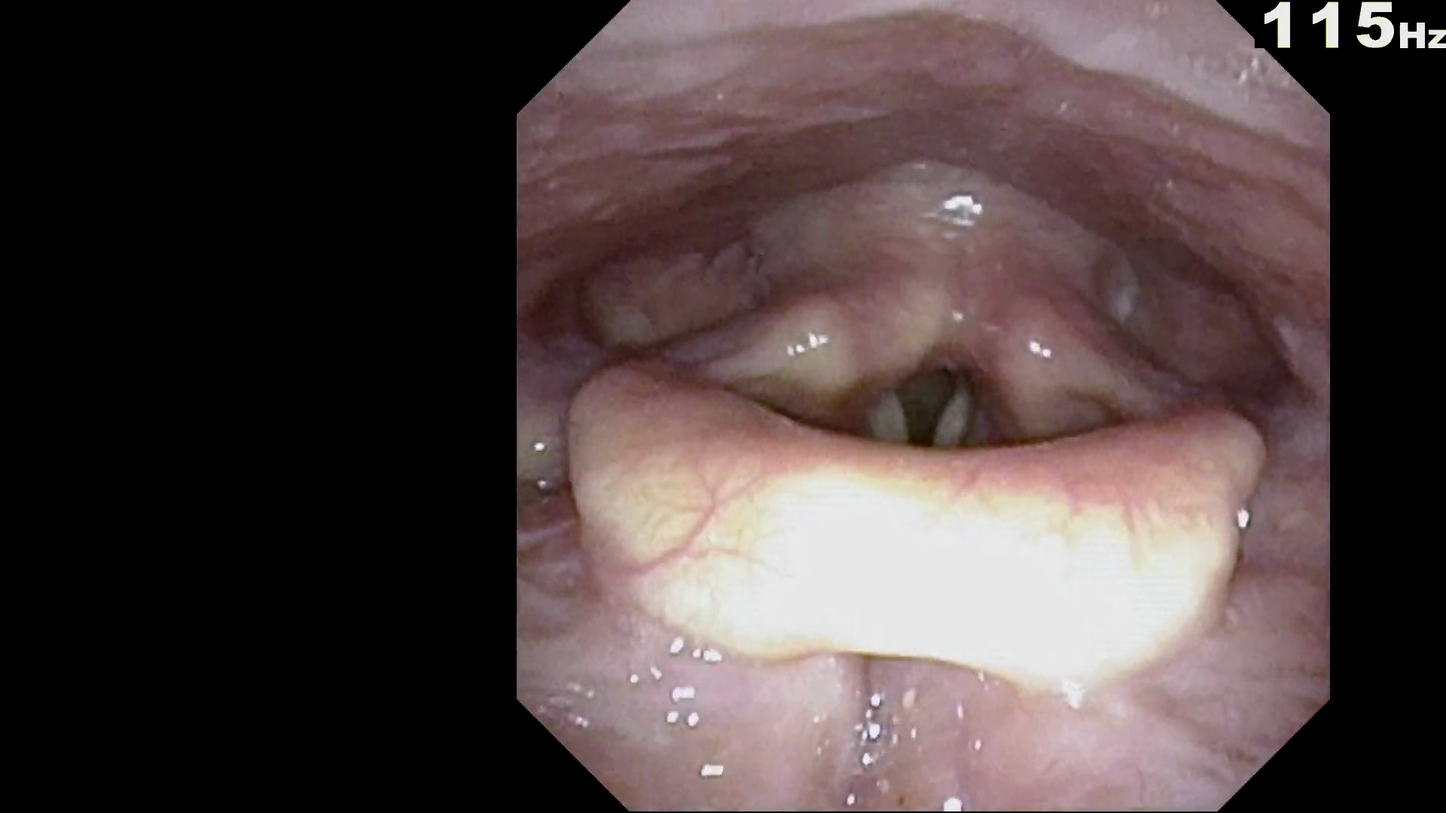epiglottis: (567, 339, 1280, 688)
trachea: (852, 302, 1031, 527)
